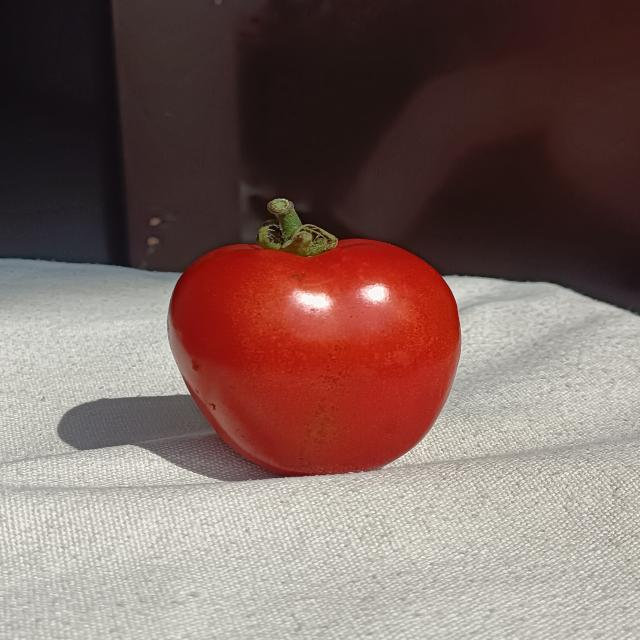Masak: (139, 214, 481, 486)
